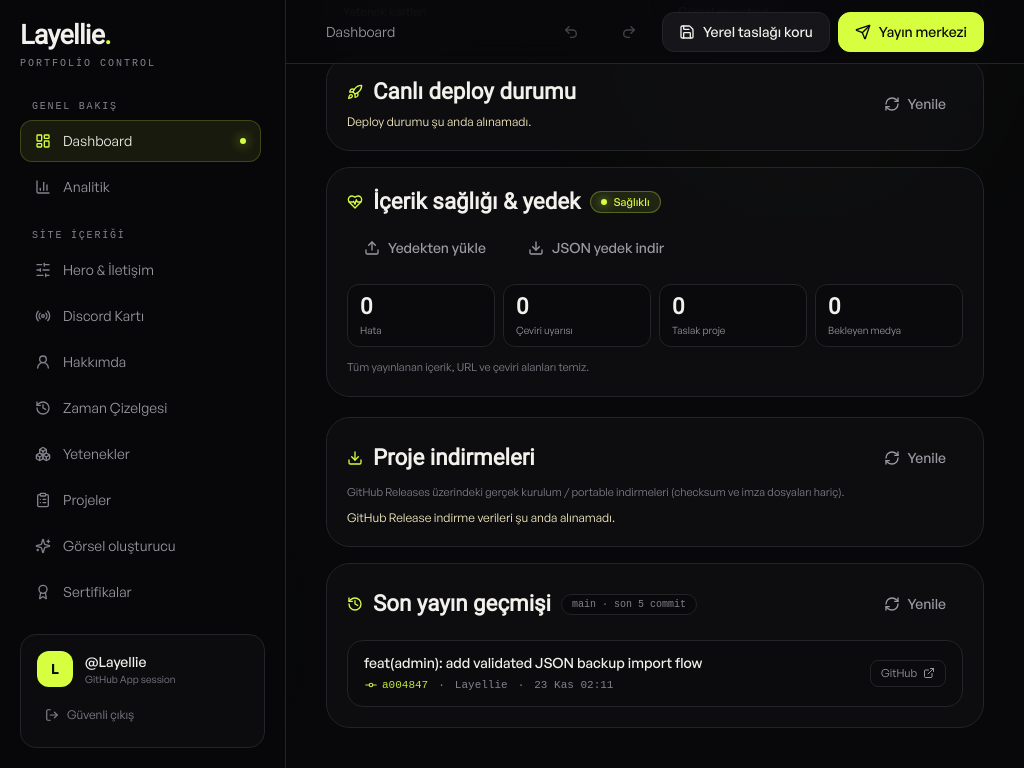
Test: AdminApp › renders recent commits on the dashboard and refreshes on click
This screenshot has width=1024, height=768.
(page scrolled)
Expected: the text "feat(admin): add validated JSON backup import flow" is shown, [364,654,702,671]
Expected: the text "a004847" is shown, [364,677,428,694]
Click the button with aria-label "Commit geçmişini yenile": (915, 604) [867,584,963,624]
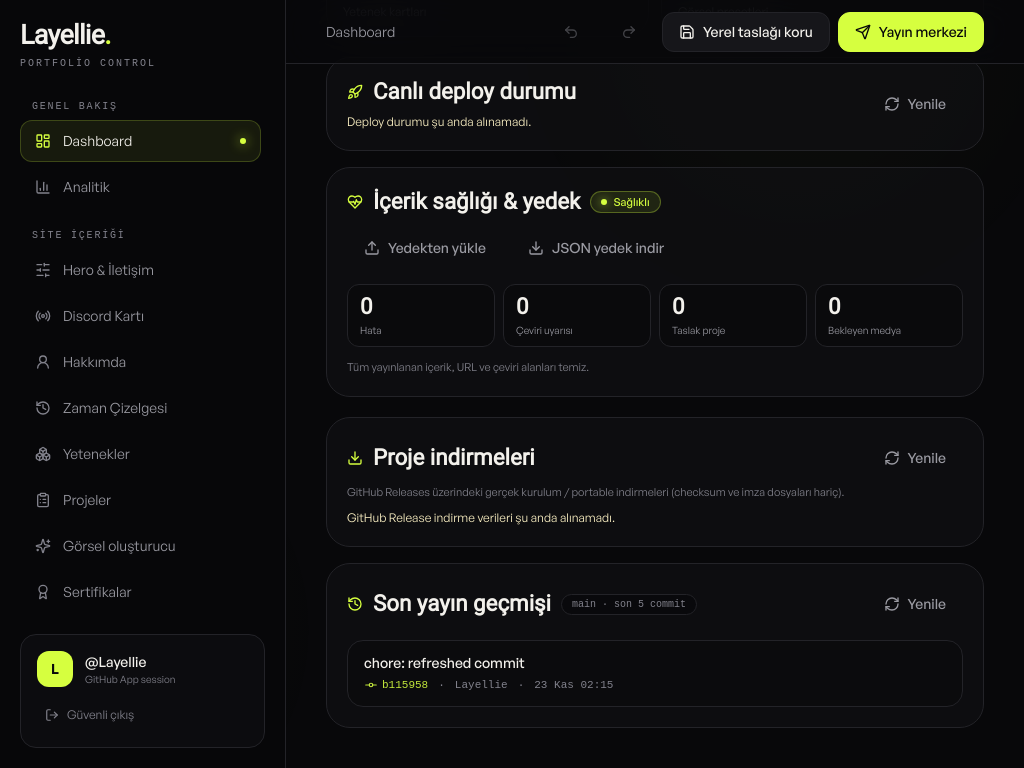
Expected: the text "chore: refreshed commit" is shown, [364,654,525,671]
